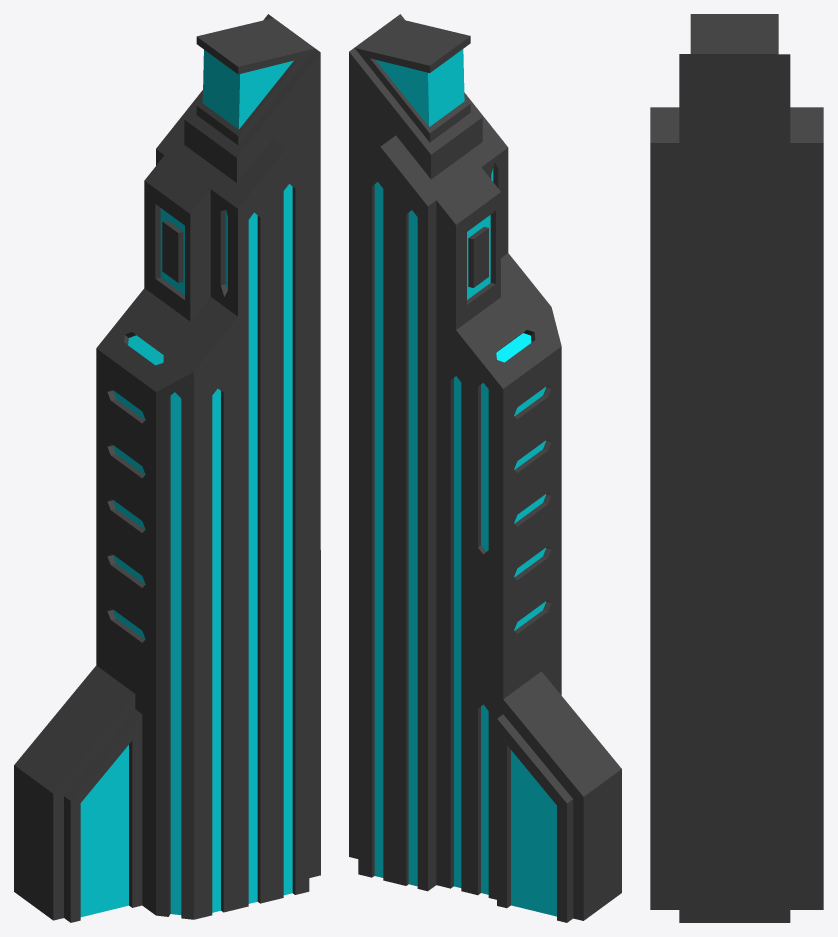
The model's file is Deco corpo 2.fbx.
3 views of the same model, side by side, from view 1: azimuth 30°, elevation 25°; view 2: azimuth 150°, elevation 25°; view 3: azimuth 270°, elevation 25° (orthographic). The views are drawn at different scales.
Parts seen in each view (by area): view 1: Corpo 2; view 2: Corpo 2; view 3: Corpo 2.
Part boxes in pixels (box(x1,y1,x2,y2)): Corpo 2: box(14, 14, 320, 922); Corpo 2: box(349, 14, 621, 922); Corpo 2: box(650, 14, 823, 922).
Bounding box in the file's own units: 2906 × 9260 × 1676.
